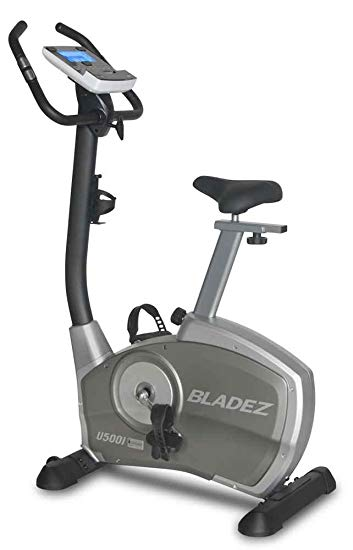gym_bike: (1, 19, 350, 530)
